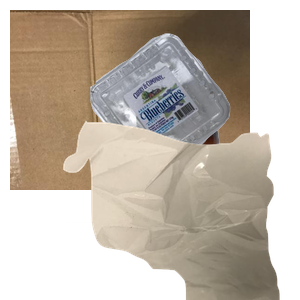cardboard: (10, 10, 250, 190)
glass: (29, 120, 242, 300)
plastic: (88, 31, 300, 198)
trash: (61, 120, 300, 300)
